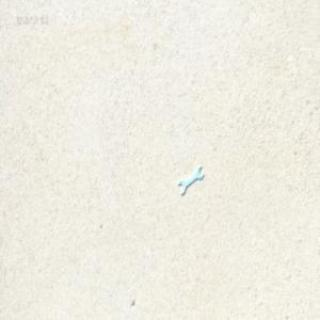Wrenchtrack_idkeyframe: (176, 161, 202, 191)
